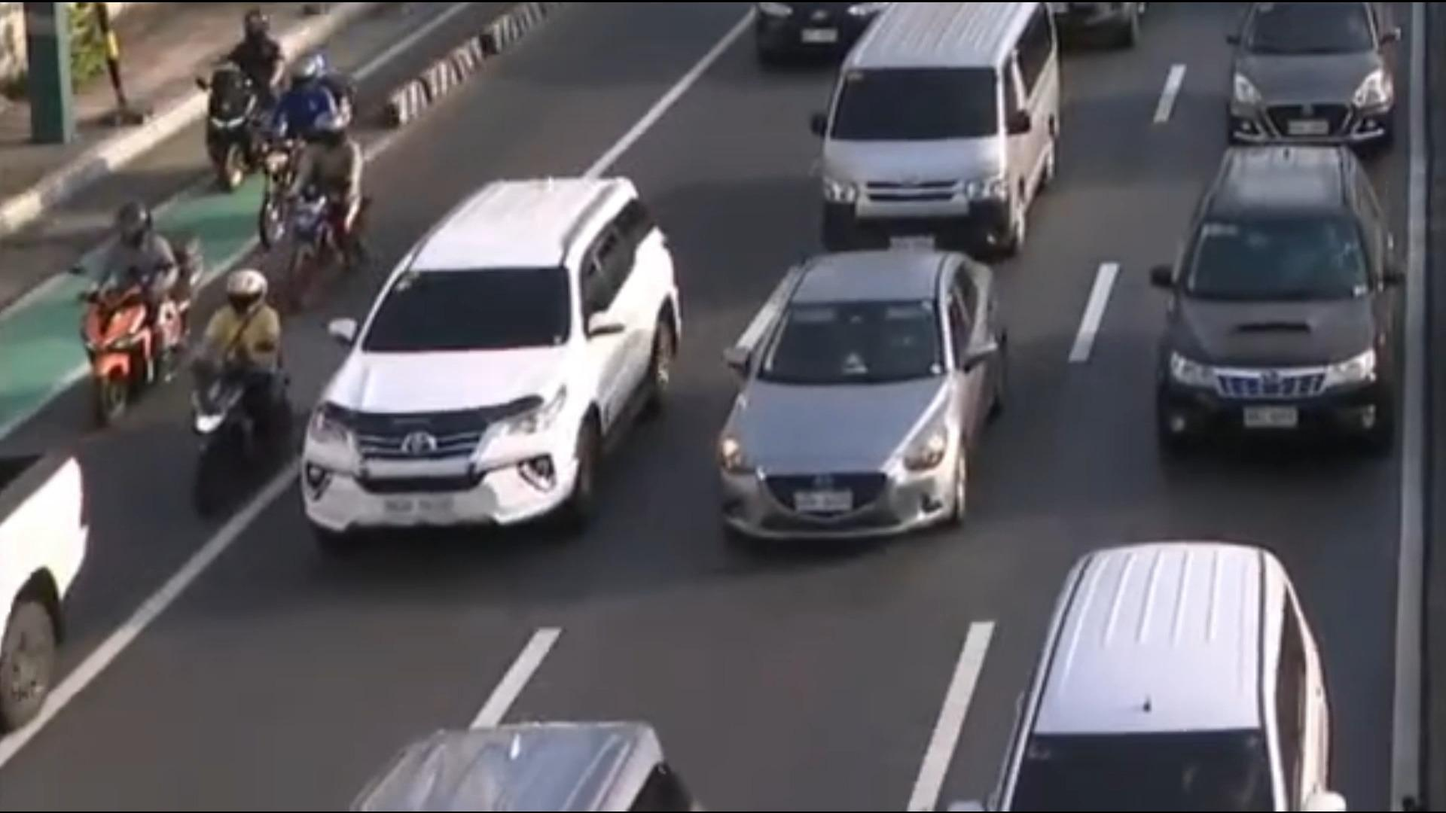Motorcycle: (172, 253, 298, 522), (68, 196, 204, 434), (246, 44, 344, 239), (283, 109, 378, 301), (199, 11, 291, 188)
SUV: (295, 172, 687, 563), (932, 530, 1357, 813), (1149, 145, 1411, 470)
Sedan: (706, 238, 1026, 553), (1220, 0, 1411, 145)
Van: (800, 0, 1071, 260)
